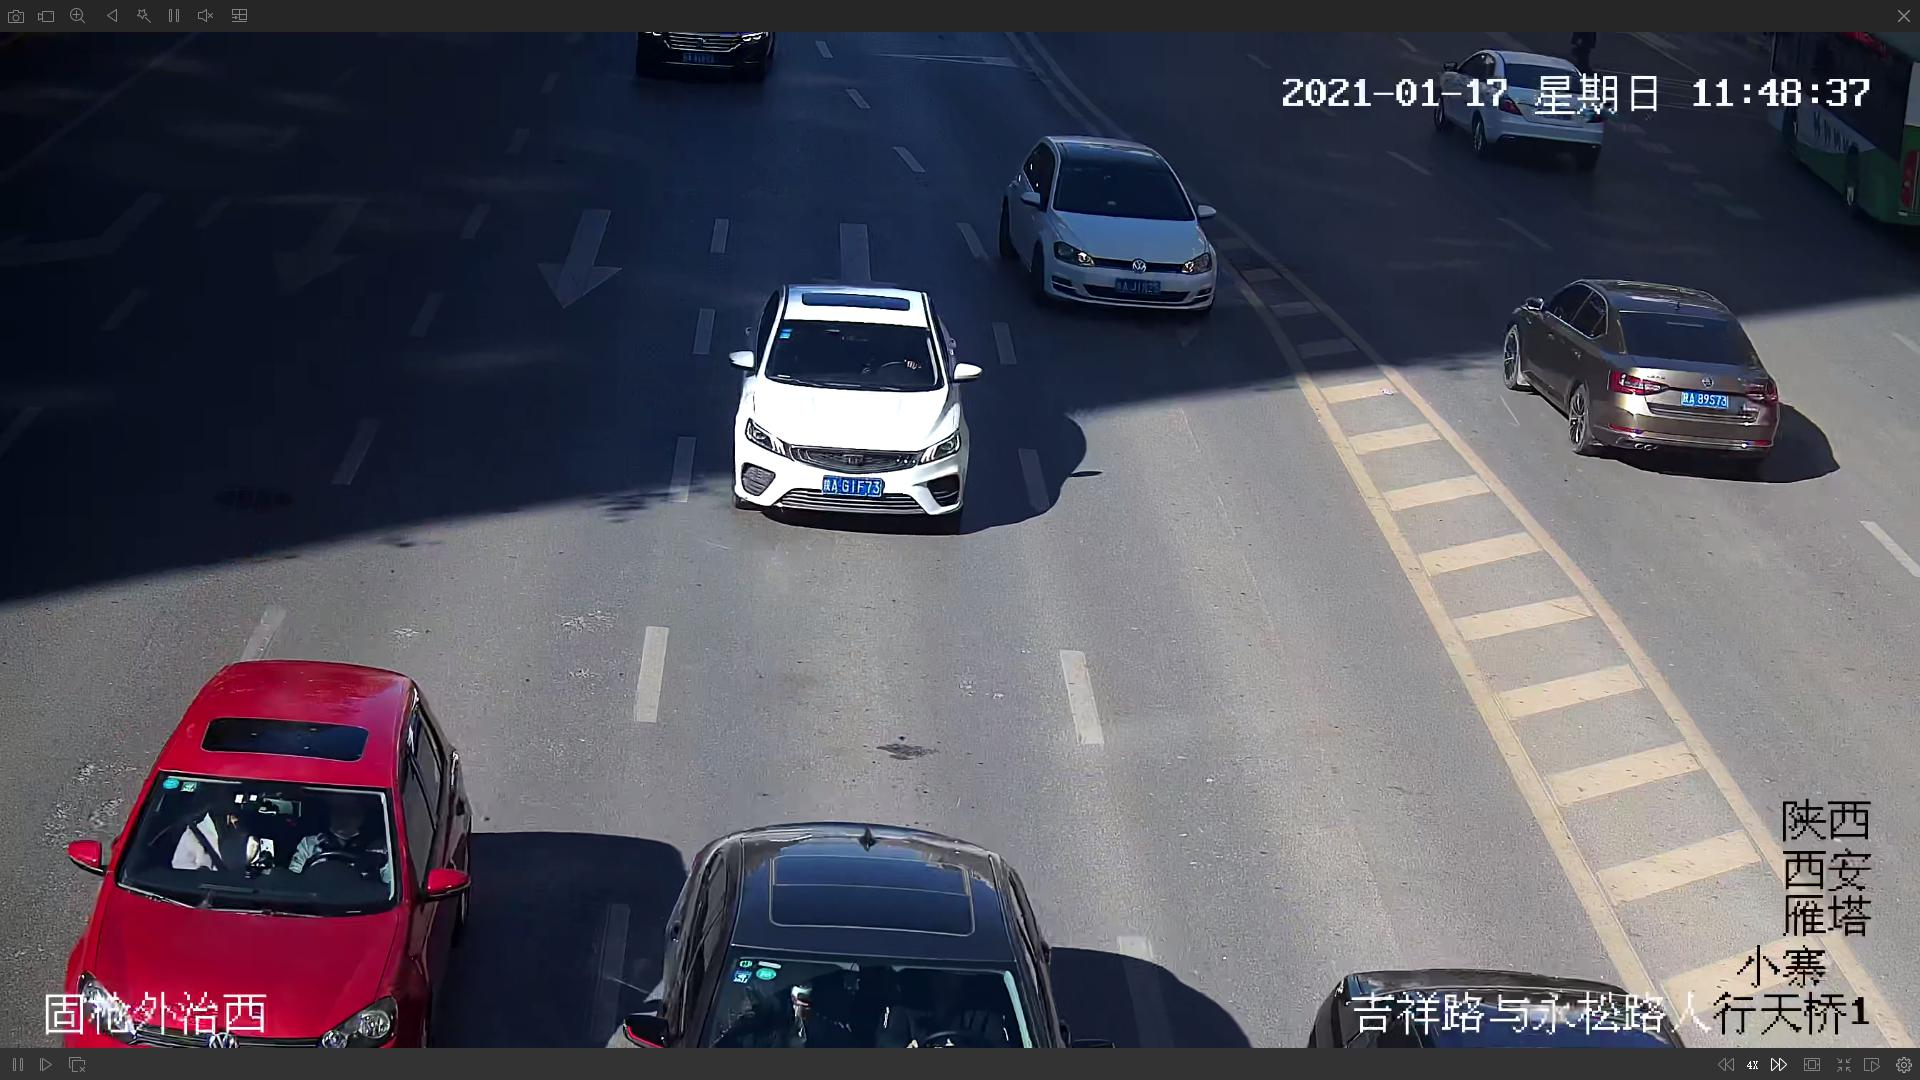red: (51, 657, 469, 1056)
white: (724, 285, 972, 527), (996, 128, 1230, 322)
